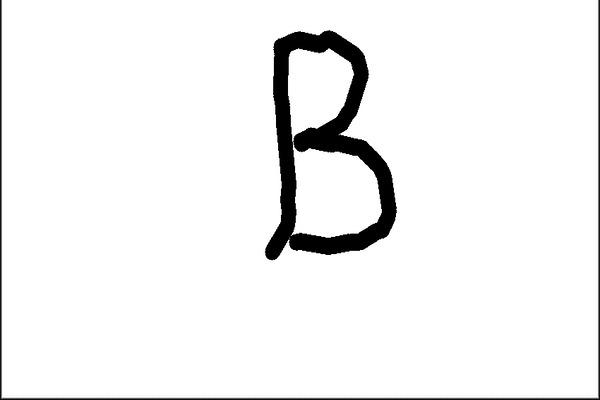B: (254, 22, 405, 270)
